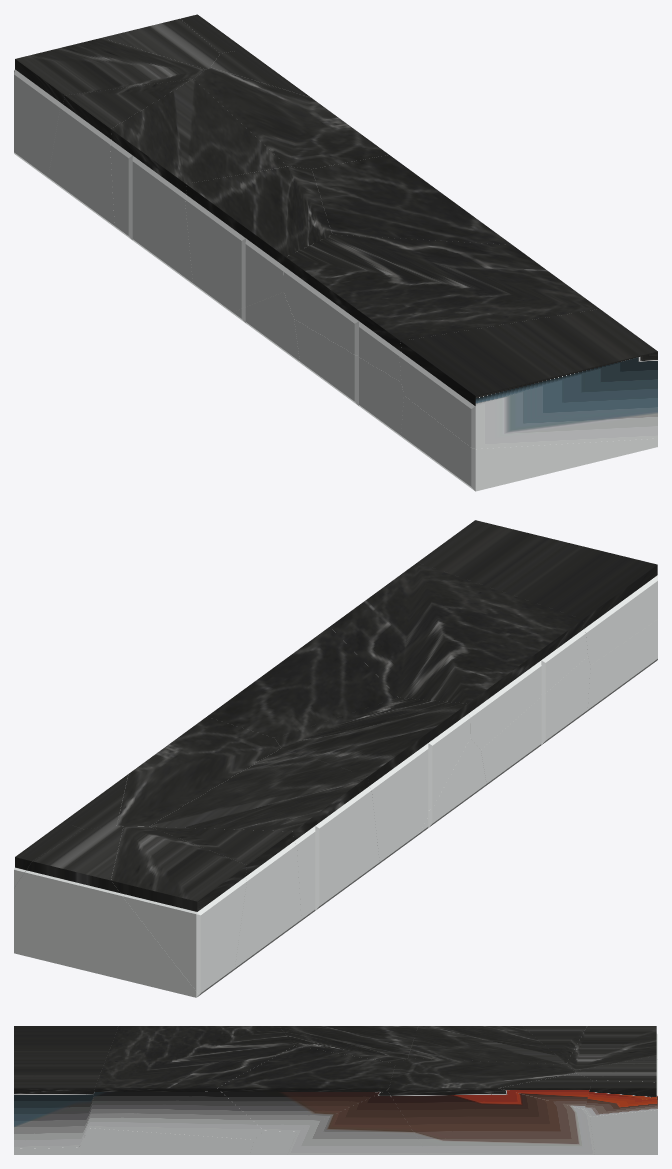
File: TV_Dest_Fractured.fbx
The picture shows the model from 3 angles, top to bottom: view 1: azimuth 30°, elevation 25°; view 2: azimuth 150°, elevation 25°; view 3: azimuth 270°, elevation 25°; orthographic projection. The views are drawn at different scales.
Visible parts, largest first — view 1: tu_tivi_cell.004, tu_tivi_cell.013, tu_tivi_cell.014, tu_tivi_cell.006, tu_tivi_cell.015, tu_tivi_cell.007, tu_tivi_cell.001, tu_tivi_cell, tu_tivi_cell.010, tu_tivi_cell.009, tu_tivi_cell.005, tu_tivi_cell.008 (+2 smaller); view 2: tu_tivi_cell.013, tu_tivi_cell.014, tu_tivi_cell.005, tu_tivi_cell.004, tu_tivi_cell.006, tu_tivi_cell.007, tu_tivi_cell.015, tu_tivi_cell.001, tu_tivi_cell, tu_tivi_cell.009, tu_tivi_cell.010, tu_tivi_cell.008 (+2 smaller); view 3: tu_tivi_cell.013, tu_tivi_cell.001, tu_tivi_cell.004, tu_tivi_cell.015, tu_tivi_cell.011, tu_tivi_cell.014, tu_tivi_cell.005, tu_tivi_cell.006, tu_tivi_cell.009, tu_tivi_cell.007, tu_tivi_cell.003, tu_tivi_cell.012 (+3 smaller).
Part boxes in pixels (box(x1,y1,x2,y2)): tu_tivi_cell.004: box(399, 309, 657, 448); tu_tivi_cell.013: box(283, 234, 599, 381); tu_tivi_cell.014: box(110, 79, 287, 286); tu_tivi_cell.006: box(185, 166, 332, 312); tu_tivi_cell.015: box(312, 155, 511, 244); tu_tivi_cell.007: box(14, 38, 205, 179); tu_tivi_cell.001: box(193, 67, 388, 168); tu_tivi_cell: box(48, 79, 192, 227); tu_tivi_cell.010: box(401, 395, 657, 491); tu_tivi_cell.009: box(294, 319, 403, 437); tu_tivi_cell.005: box(14, 18, 219, 158); tu_tivi_cell.008: box(231, 292, 302, 364); tu_tivi_cell.013: box(330, 562, 587, 749); tu_tivi_cell.014: box(149, 748, 379, 922); tu_tivi_cell.005: box(14, 826, 203, 997); tu_tivi_cell.004: box(417, 520, 657, 664); tu_tivi_cell.006: box(275, 697, 470, 864); tu_tivi_cell.007: box(111, 826, 246, 993); tu_tivi_cell.015: box(207, 627, 398, 737); tu_tivi_cell.001: box(116, 717, 280, 826); tu_tivi_cell: box(150, 826, 301, 970); tu_tivi_cell.009: box(481, 656, 590, 786); tu_tivi_cell.010: box(586, 619, 657, 712); tu_tivi_cell.008: box(414, 738, 486, 838); tu_tivi_cell.013: box(88, 1026, 294, 1139); tu_tivi_cell.001: box(387, 1058, 594, 1154); tu_tivi_cell.004: box(14, 1026, 118, 1148); tu_tivi_cell.015: box(217, 1046, 395, 1131); tu_tivi_cell.011: box(288, 1090, 427, 1154); tu_tivi_cell.014: box(408, 1026, 565, 1064); tu_tivi_cell.005: box(575, 1055, 657, 1154); tu_tivi_cell.006: box(279, 1026, 418, 1063); tu_tivi_cell.009: box(79, 1128, 254, 1154); tu_tivi_cell.007: box(566, 1026, 657, 1070); tu_tivi_cell.003: box(584, 1080, 657, 1116); tu_tivi_cell.012: box(499, 1073, 592, 1109).
Size of the model in its own units: 528 by 261 by 2283.
